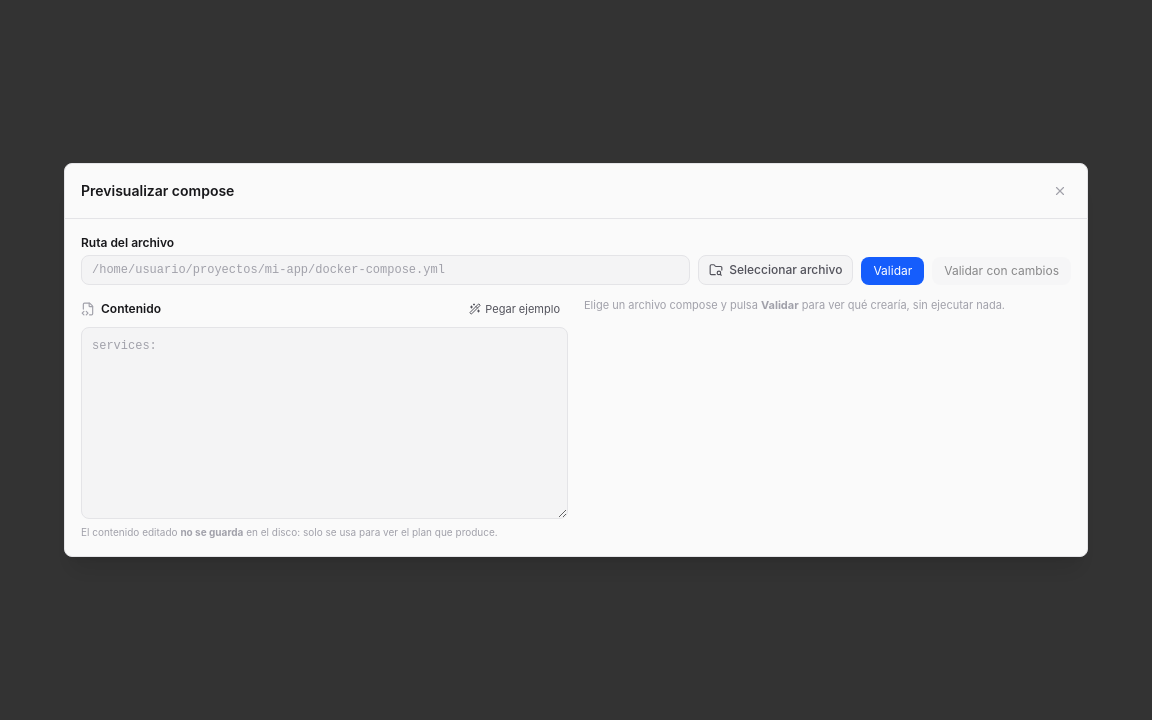
Test case: ComposePlanModal › pinta el plan con servicios, puertos, montajes, redes y volúmenes
Type "/p/docker-compose.yml" into the field labelled "Ruta del archivo". click: (386, 270)
box: left=81, top=255, right=690, bottom=285
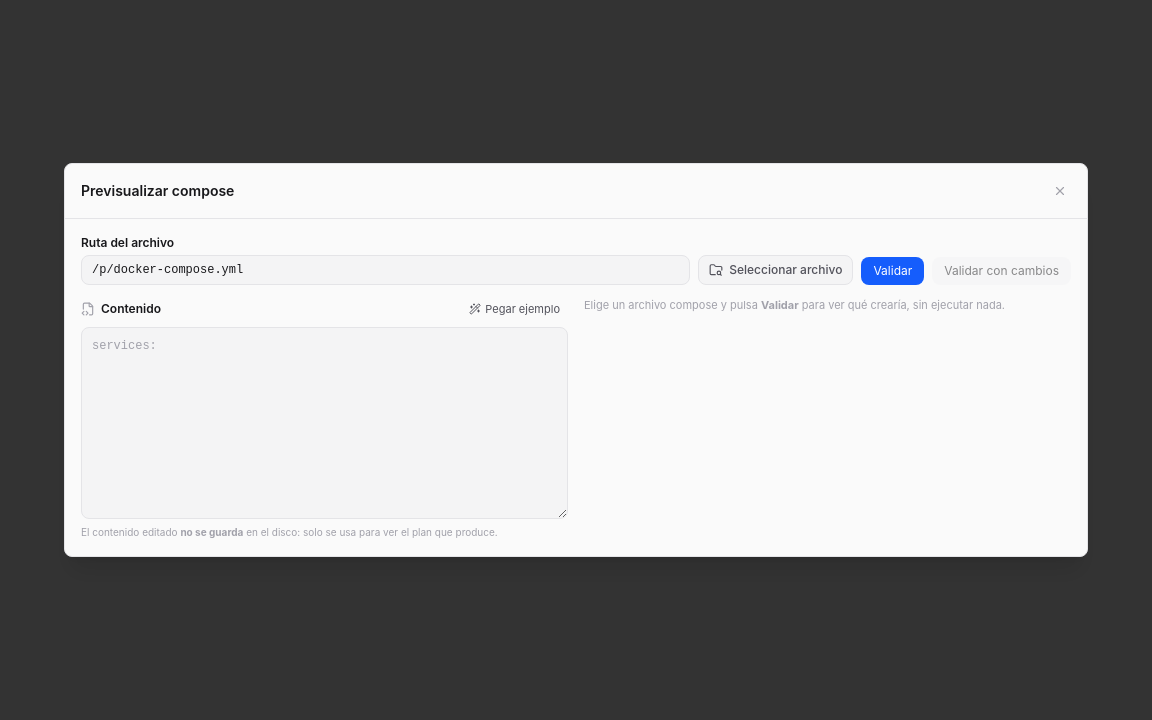
Click the button "Validar". click: (893, 271)
box: left=861, top=257, right=924, bottom=285
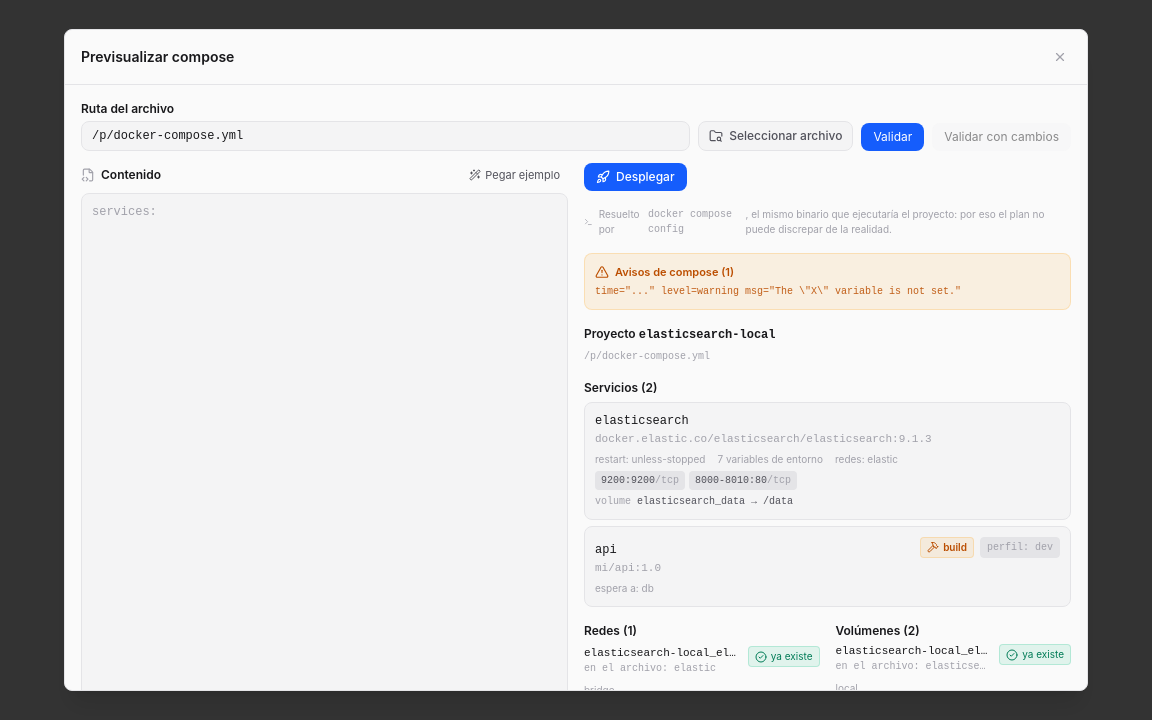
Expected: the element with test id "compose-plan" is shown, left=584, top=163, right=1071, bottom=690
Expected: the list item with test id "service-elasticsearch" is shown, left=584, top=402, right=1071, bottom=520
Expected: the list item with test id "service-api" is shown, left=584, top=526, right=1071, bottom=607
